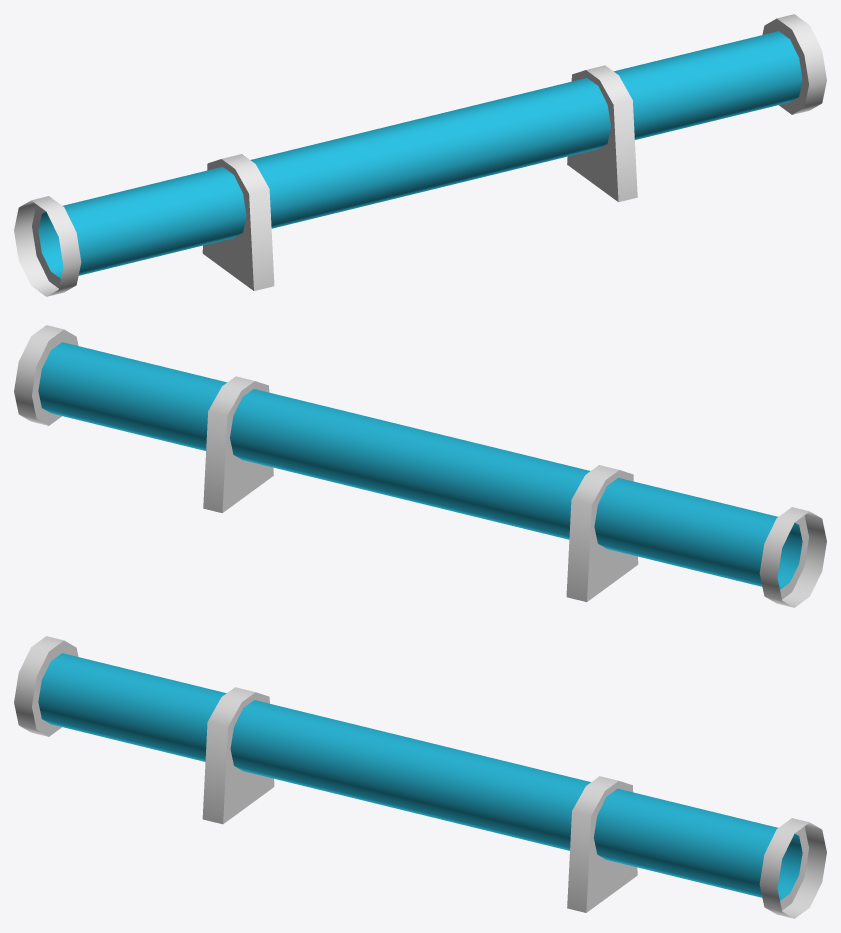
The model's file is Pipe.fbx.
The picture shows the model from 3 angles, top to bottom: view 1: azimuth 30°, elevation 25°; view 2: azimuth 150°, elevation 25°; view 3: azimuth 330°, elevation 25°; orthographic projection.
Parts seen in each view (by area): view 1: Cylinder; view 2: Cylinder; view 3: Cylinder.
Boxes of the visible parts, x1,y1,x2,y2 form: Cylinder: [14, 14, 826, 296]; Cylinder: [14, 325, 826, 607]; Cylinder: [14, 636, 826, 918].
Bounding box in the file's own units: 2.44 × 0.3443 × 0.2847.
